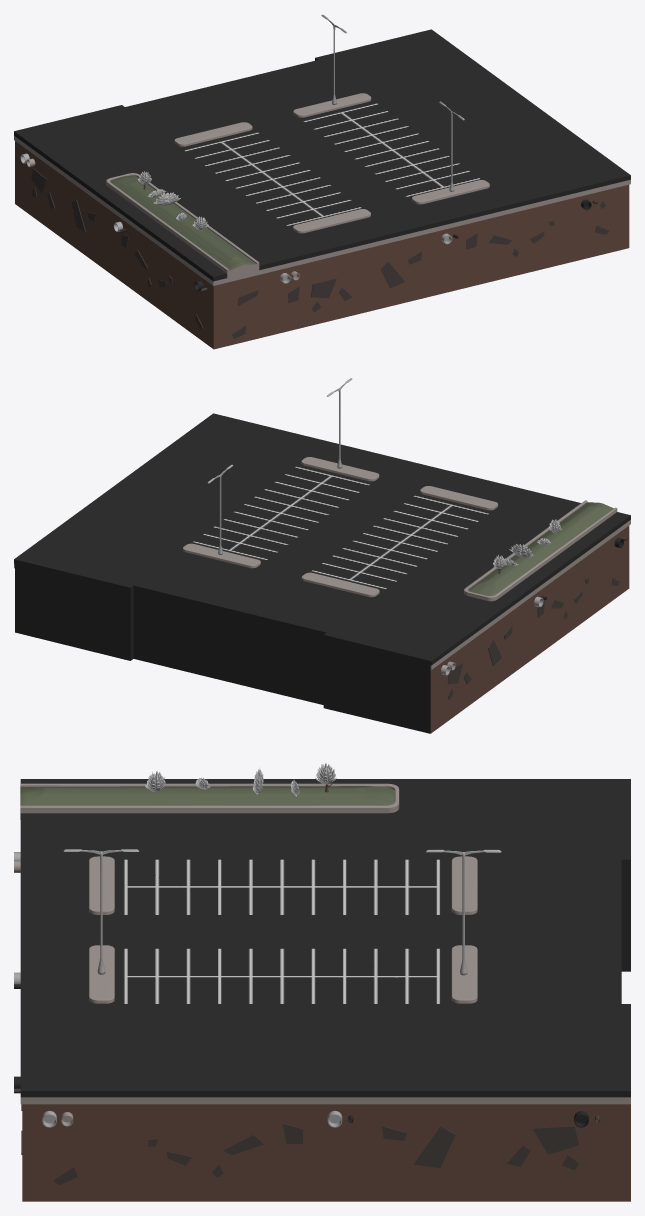
The model's file is supermarket_carpark.fbx.
3 renders of one model, top to bottom at view 1: azimuth 30°, elevation 25°; view 2: azimuth 150°, elevation 25°; view 3: azimuth 270°, elevation 25°, orthographic. The views are drawn at different scales.
Parts seen in each view (by area): view 1: carpark5, vegetation_strip, curb2, curb3, curb4, curb1; view 2: carpark5, vegetation_strip, curb2, curb3, curb1, curb4; view 3: carpark5, vegetation_strip, curb1, curb3, curb2, curb4, pCube13, pCube11, lamppost_1, lamppost_2.
Boxes of the visible parts, bbox=[...] form: carpark5: bbox=[14, 29, 630, 349]; vegetation_strip: bbox=[106, 173, 259, 278]; curb2: bbox=[174, 122, 252, 146]; curb3: bbox=[293, 209, 370, 233]; curb4: bbox=[412, 180, 489, 204]; curb1: bbox=[293, 93, 371, 117]; carpark5: bbox=[14, 413, 630, 733]; vegetation_strip: bbox=[464, 500, 617, 601]; curb2: bbox=[301, 572, 379, 597]; curb3: bbox=[420, 486, 498, 510]; curb1: bbox=[183, 543, 260, 568]; curb4: bbox=[301, 457, 379, 481]; carpark5: bbox=[20, 779, 630, 1201]; vegetation_strip: bbox=[20, 783, 399, 819]; curb1: bbox=[451, 945, 477, 1003]; curb3: bbox=[89, 856, 114, 914]; curb2: bbox=[451, 856, 477, 914]; curb4: bbox=[89, 945, 114, 1003]; pCube13: bbox=[532, 1126, 578, 1154]; pCube11: bbox=[414, 1126, 455, 1168]; lamppost_1: bbox=[426, 849, 501, 975]; lamppost_2: bbox=[63, 849, 138, 974].
Bounding box in the file's own units: 220 × 77.51 × 181.
8 materials, 2 textured.
